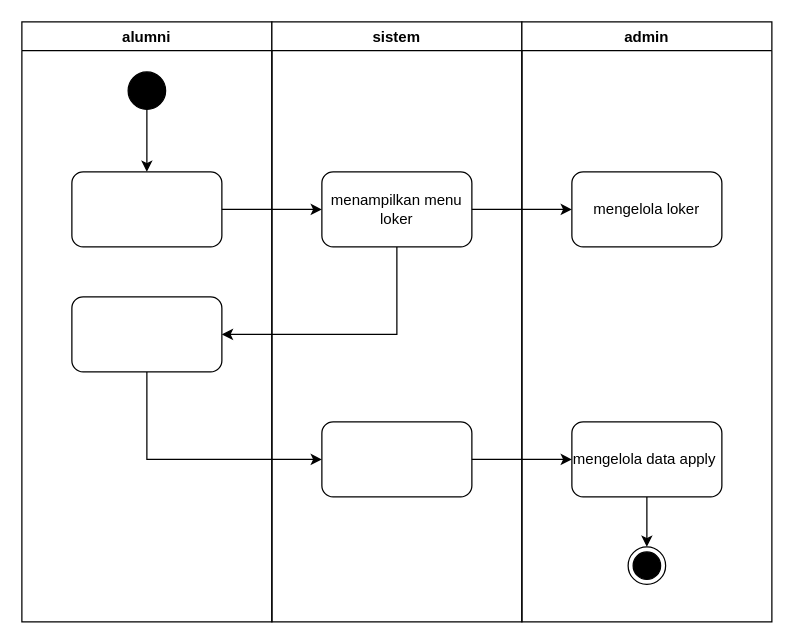
Image size: 794x644. Some labels were removed from this diagram. Each missing label, with the box of its shape:
klik apply loker yg dipilih: (71, 296, 222, 372)
klik menu loker: (71, 171, 222, 247)
menyimpan data apply di database: (321, 421, 472, 497)
